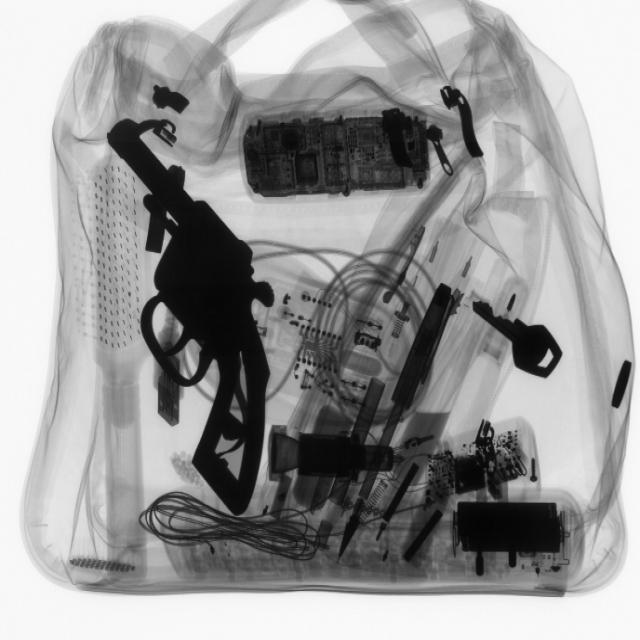GUN: (129, 123, 276, 520)
